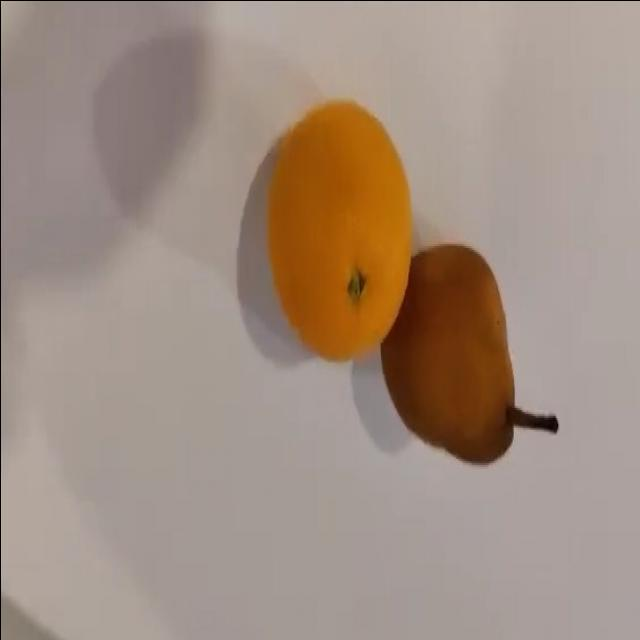Orange: (265, 97, 413, 361)
